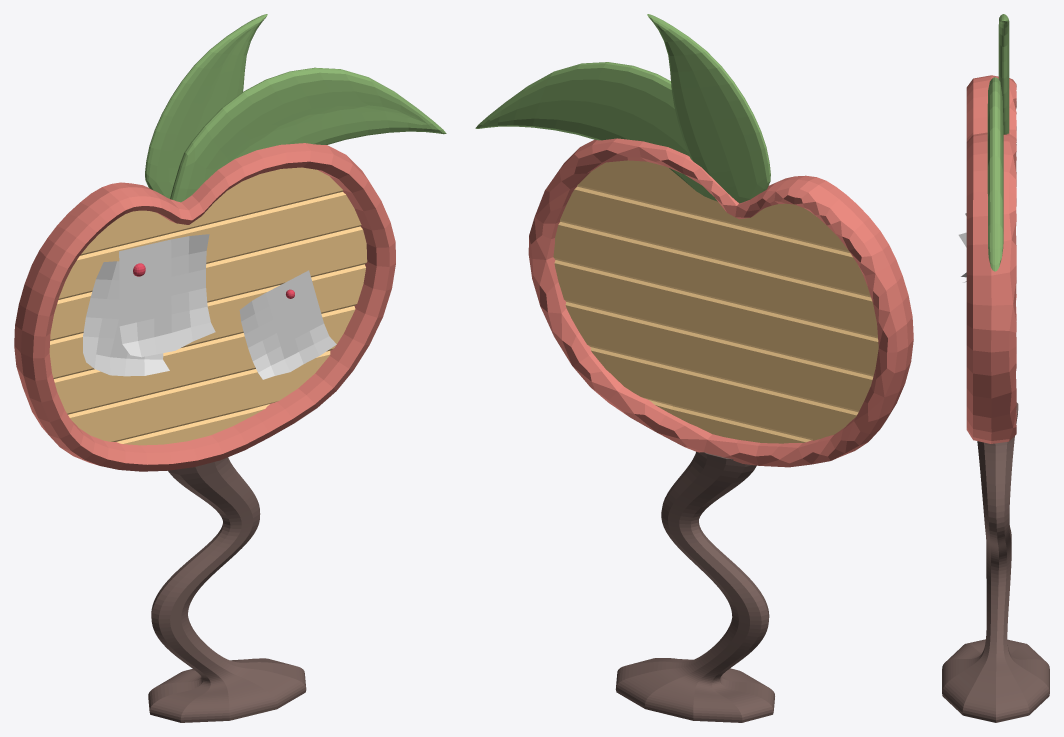
The model's file is PeachSign-2.fbx.
3 renders of one model, left to right at view 1: azimuth 30°, elevation 25°; view 2: azimuth 150°, elevation 25°; view 3: azimuth 270°, elevation 25°, orthographic. The views are drawn at different scales.
Visible parts, largest first — view 1: Plane.002, Plane.001, NurbsPath, Plane.005, Plane.007, Plane.004, Plane.008, Plane.006; view 2: Plane.003, Plane.001, NurbsPath, Plane.005, Plane.004; view 3: Plane.001, NurbsPath, Plane.005, Plane.004.
Part boxes in pixels (box(x1,y1,x2,y2)): Plane.002: box(49, 167, 367, 445); Plane.001: box(14, 143, 395, 471); NurbsPath: box(148, 457, 306, 722); Plane.005: box(170, 67, 446, 202); Plane.007: box(119, 234, 215, 357); Plane.004: box(145, 14, 267, 198); Plane.008: box(239, 270, 336, 379); Plane.006: box(83, 261, 169, 376); Plane.003: box(553, 160, 878, 443); Plane.001: box(528, 138, 913, 467); NurbsPath: box(615, 452, 774, 722); Plane.005: box(475, 62, 717, 201); Plane.004: box(647, 14, 770, 203); Plane.001: box(966, 75, 1016, 443); NurbsPath: box(942, 402, 1049, 722); Plane.005: box(987, 77, 1003, 271); Plane.004: box(998, 14, 1009, 134).
Size of the model in its own units: 32.17 by 48.07 by 6.85.
